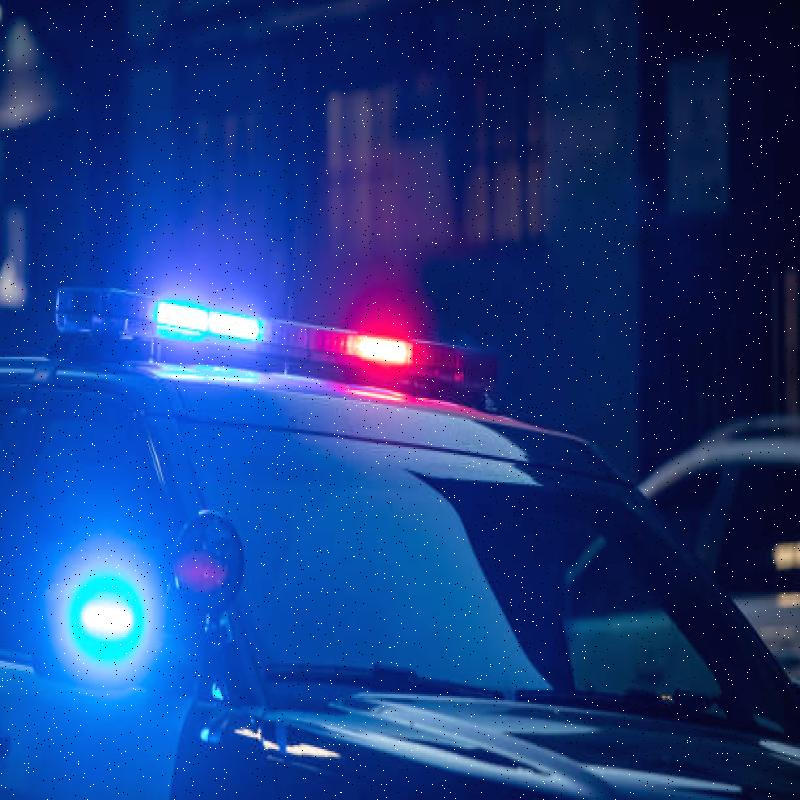AmbulanceSiren: (31, 254, 540, 406)
